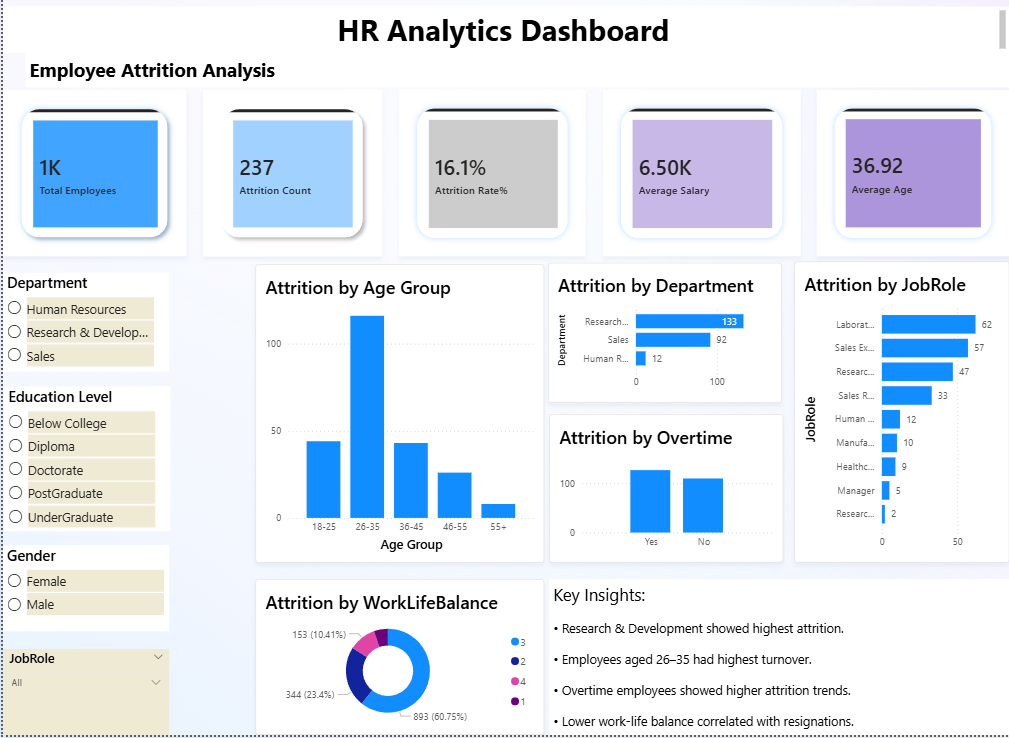

What the dashboard file says about the page in this screenshot:
{"tool":"powerbi","page":{"name":"Page 1","canvas":[1280,936],"ordinal":0},"visuals":[{"type":"cardVisual","fields":{"Data":["IBM_Employee_Dataset.Total Employees"]},"box":[0,115.8,233.3,211.3],"z":0},{"type":"cardVisual","fields":{"Data":["IBM_Employee_Dataset.Attrition Count"]},"box":[254.5,115.8,227.8,211.3],"z":1000},{"type":"cardVisual","fields":{"Data":["IBM_Employee_Dataset.Attrition Rate%"]},"box":[503.6,115.8,237.4,211.3],"z":2000},{"type":"cardVisual","fields":{"Data":["IBM_Employee_Dataset.Average Salary"]},"box":[762.3,115.8,251.1,211.3],"z":3000},{"type":"cardVisual","fields":{"Data":["IBM_Employee_Dataset.Average Age"]},"box":[1034.4,115.8,245.6,211.3],"z":4000},{"type":"textbox","box":[0,9.6,1280.3,59],"z":5000},{"type":"textbox","box":[28.8,68.6,1251.5,43.9],"z":6000},{"type":"barChart","title":"Attrition by Department","fields":{"Y":["IBM_Employee_Dataset.Attrition Count"],"Category":["IBM_Employee_Dataset.Department"]},"box":[693,334.8,297.8,178.4],"z":7000},{"type":"donutChart","title":"Attrition by WorkLifeBalance","fields":{"Y":["CountNonNull(IBM_Employee_Dataset.Attrition)"],"Category":["IBM_Employee_Dataset.WorkLifeBalance"]},"box":[321.1,737.6,367.2,198.7],"z":8000},{"type":"clusteredBarChart","title":"Attrition by JobRole","fields":{"Category":["IBM_Employee_Dataset.JobRole"],"Y":["IBM_Employee_Dataset.Attrition Count"]},"box":[1006.3,333.8,273.4,383.1],"z":9000},{"type":"columnChart","title":"Attrition by Overtime","fields":{"Category":["IBM_Employee_Dataset.OverTime"],"Y":["IBM_Employee_Dataset.Attrition Count"]},"box":[694.7,528.4,297.3,189.2],"z":10000},{"type":"listSlicer","fields":{"Values":["IBM_Employee_Dataset.Department"]},"box":[0,348.9,211.6,126],"z":11000},{"type":"listSlicer","title":"Education Level","fields":{"Values":["IBM_Employee_Dataset.EducationLabels"]},"box":[1.6,492.6,211.6,184.1],"z":12000},{"type":"listSlicer","fields":{"Values":["IBM_Employee_Dataset.Gender"]},"box":[0,694.5,211.6,109.8],"z":13000},{"type":"slicer","fields":{"Values":["IBM_Employee_Dataset.JobRole"]},"box":[0,826.2,211.6,109.8],"z":14000},{"type":"clusteredColumnChart","title":"Attrition by Age Group","fields":{"Category":["IBM_Employee_Dataset.Age Group"],"Y":["IBM_Employee_Dataset.Attrition Count"]},"box":[321.1,337,367.2,379.9],"z":15000},{"type":"textbox","box":[694.7,737.6,585,198.7],"z":16000}]}

Visuals, with their boxes in screenshot pixels (x1, y1, x2, y2), scaled from the page's 1280x936 canvas onto the 1009x738 screenshot:
cardVisual - IBM_Employee_Dataset.Total Employees: (left=0, top=91, right=184, bottom=258)
cardVisual - IBM_Employee_Dataset.Attrition Count: (left=201, top=91, right=380, bottom=258)
cardVisual - IBM_Employee_Dataset.Attrition Rate%: (left=397, top=91, right=584, bottom=258)
cardVisual - IBM_Employee_Dataset.Average Salary: (left=601, top=91, right=799, bottom=258)
cardVisual - IBM_Employee_Dataset.Average Age: (left=815, top=91, right=1008, bottom=258)
textbox: (left=0, top=8, right=1008, bottom=54)
textbox: (left=23, top=54, right=1008, bottom=89)
"Attrition by Department" barChart: (left=546, top=264, right=781, bottom=405)
"Attrition by WorkLifeBalance" donutChart: (left=253, top=582, right=543, bottom=737)
"Attrition by JobRole" clusteredBarChart: (left=793, top=263, right=1008, bottom=565)
"Attrition by Overtime" columnChart: (left=548, top=417, right=782, bottom=566)
listSlicer - IBM_Employee_Dataset.Department: (left=0, top=275, right=167, bottom=374)
"Education Level" listSlicer: (left=1, top=388, right=168, bottom=534)
listSlicer - IBM_Employee_Dataset.Gender: (left=0, top=548, right=167, bottom=634)
slicer - IBM_Employee_Dataset.JobRole: (left=0, top=651, right=167, bottom=737)
"Attrition by Age Group" clusteredColumnChart: (left=253, top=266, right=543, bottom=565)
textbox: (left=548, top=582, right=1008, bottom=737)
